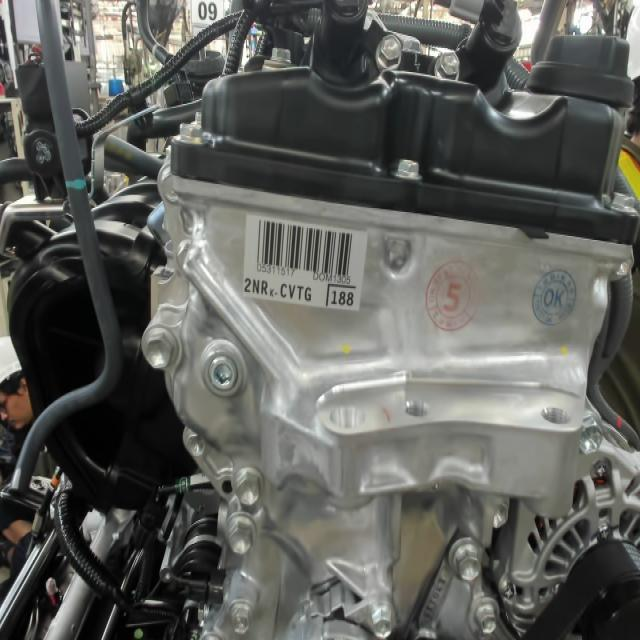Engine Assy-188: (326, 280, 362, 313)
Hose Canister-HJ: (60, 175, 90, 195)
